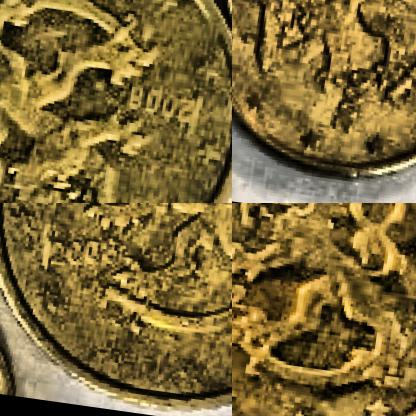coin: (0, 203, 231, 415), (0, 0, 231, 202), (232, 203, 415, 415), (232, 0, 415, 201)
